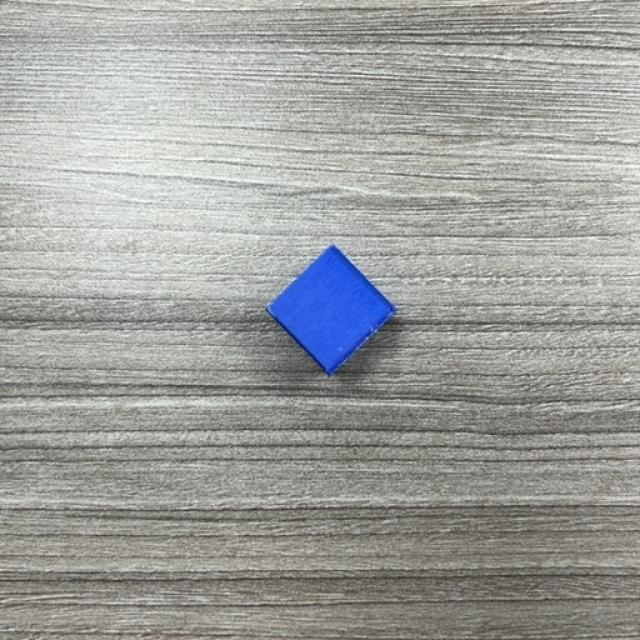Azul: (265, 246, 398, 376)
